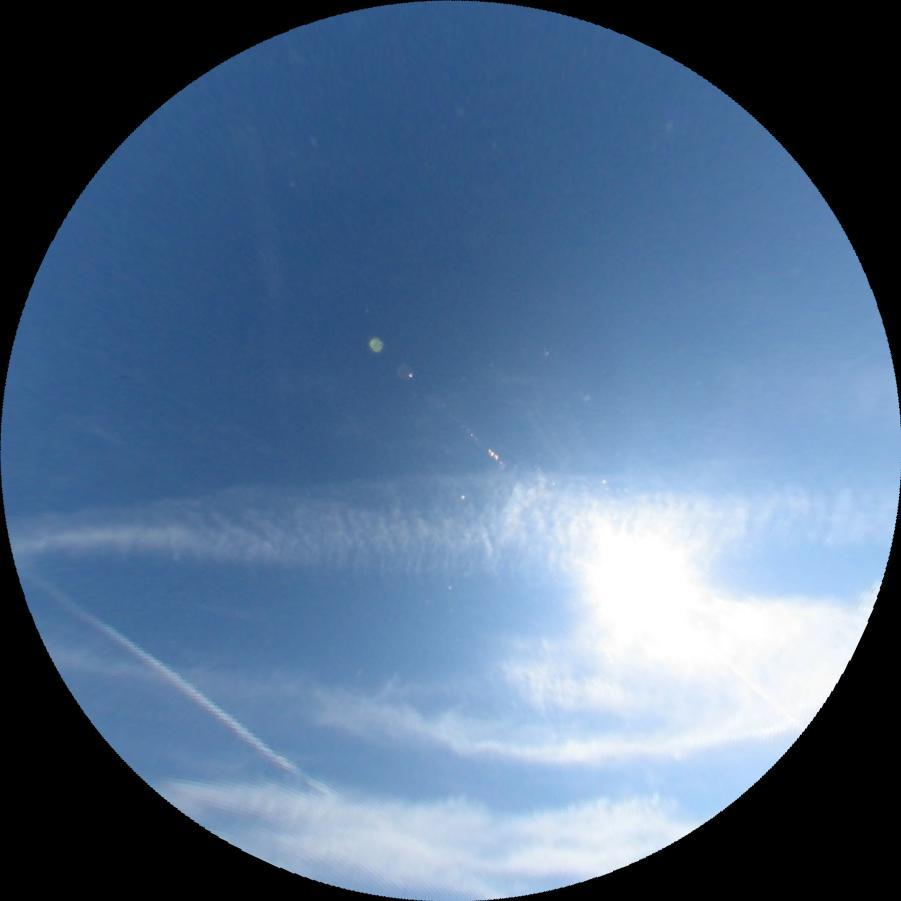contrail old: (20, 566, 361, 819)
contrail veryold: (9, 463, 899, 583)
parasite: (680, 616, 806, 730)
sun: (584, 532, 709, 643)
